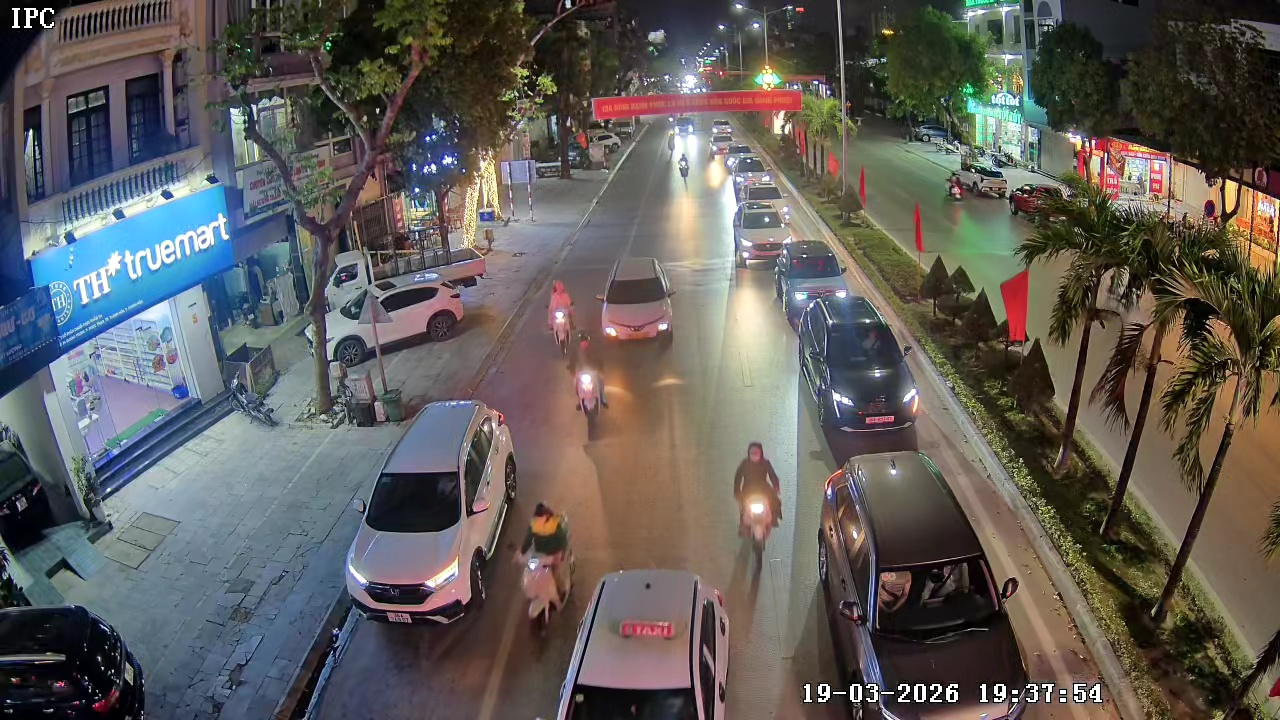car: (812, 450, 1038, 719), (343, 397, 517, 623), (555, 567, 734, 719), (794, 294, 921, 450), (0, 603, 150, 719), (347, 267, 468, 358), (597, 254, 676, 351), (773, 237, 849, 324), (729, 200, 794, 268)
motorbike: (512, 501, 577, 638), (730, 439, 786, 559), (572, 333, 610, 436), (546, 280, 577, 355), (676, 146, 690, 179)
